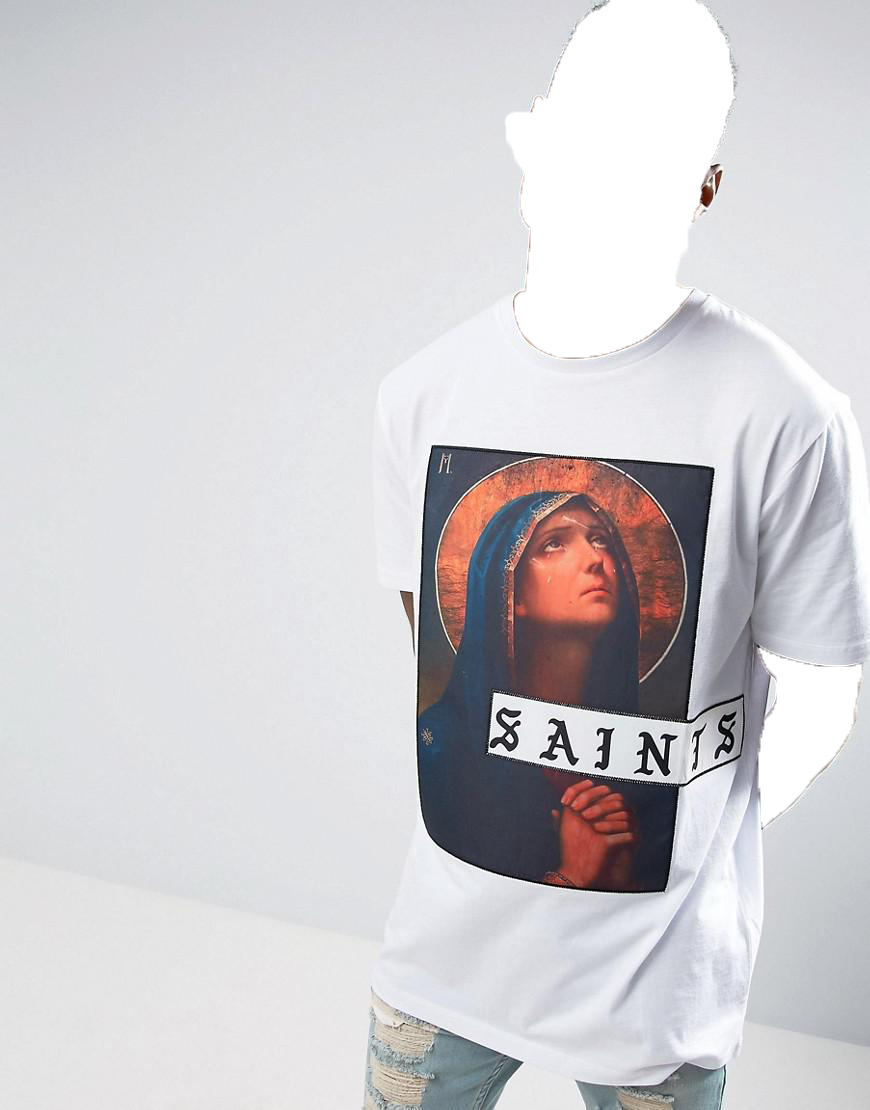teeshirt: (339, 290, 870, 1083)
